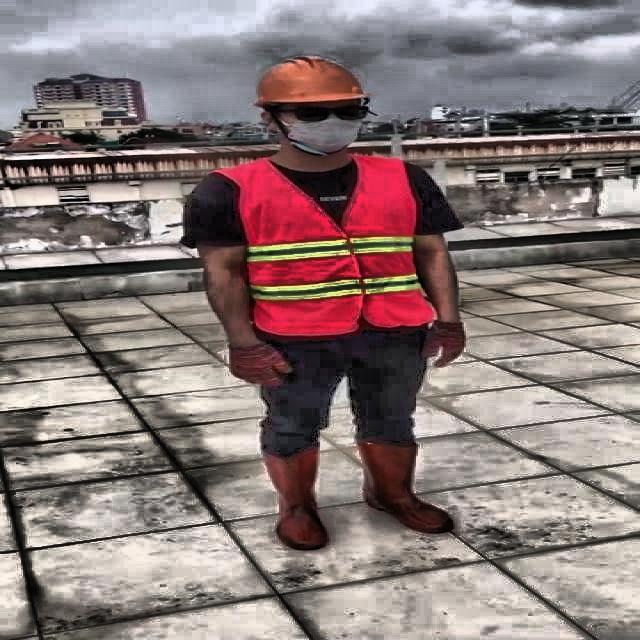safety_helmet: (251, 55, 372, 103)
safety_jacket: (237, 159, 430, 334)
